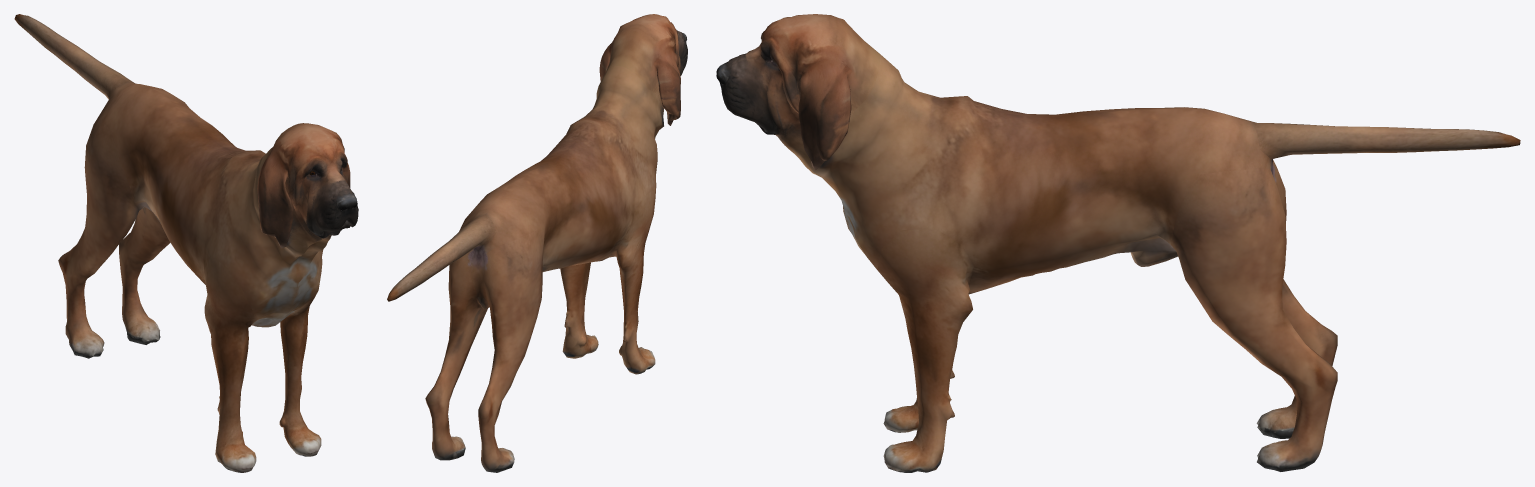
File: dog.glb
The picture shows the model from 3 angles, left to right: view 1: azimuth 30°, elevation 25°; view 2: azimuth 150°, elevation 25°; view 3: azimuth 270°, elevation 25°; orthographic projection. The views are drawn at different scales.
Visible parts, largest first — view 1: sm_3_0_0_0, sm_1_0_0_2; view 2: sm_3_0_0_0, sm_1_0_0_2; view 3: sm_3_0_0_0, sm_1_0_0_2.
Boxes of the visible parts, x1,y1,x2,y2 form: sm_3_0_0_0: (14, 14, 327, 472); sm_1_0_0_2: (257, 123, 358, 252); sm_3_0_0_0: (387, 66, 663, 472); sm_1_0_0_2: (599, 14, 687, 125); sm_3_0_0_0: (805, 54, 1520, 472); sm_1_0_0_2: (716, 14, 879, 170).
Size of the model in its own units: 0.2292 by 0.7949 by 1.34.
Materials: 3 (3 with a texture image).
